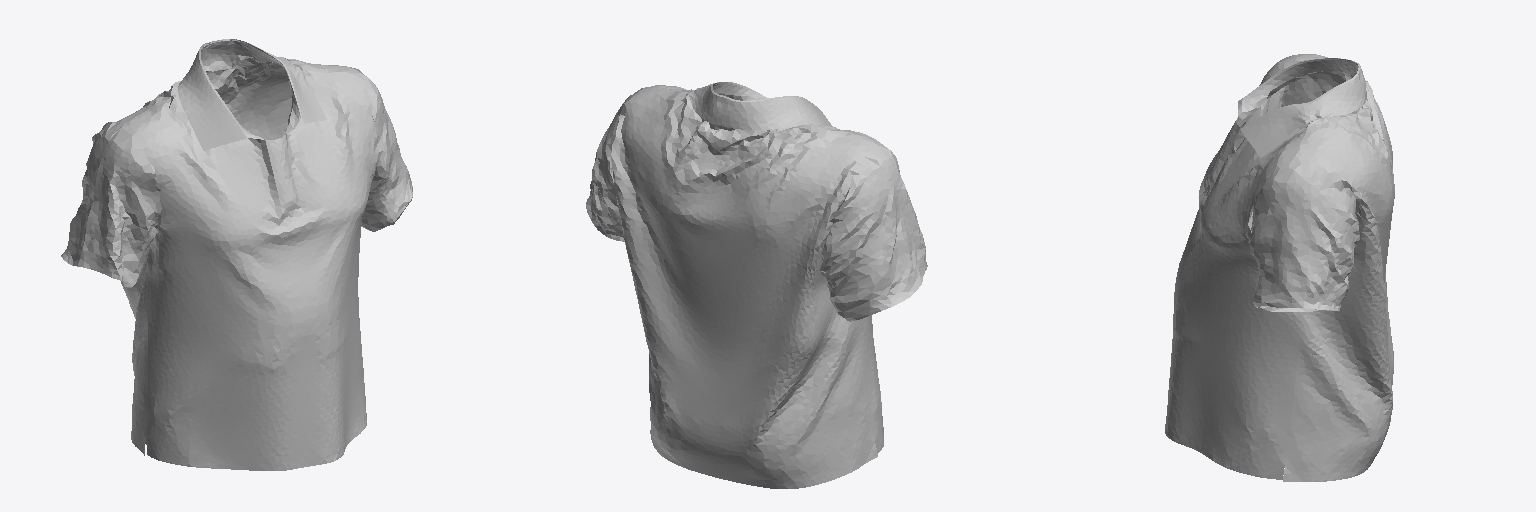
The model's file is Medium_Average.obj.
3 renders of one model, left to right at view 1: azimuth 30°, elevation 25°; view 2: azimuth 150°, elevation 25°; view 3: azimuth 270°, elevation 25°, orthographic.
Parts seen in each view (by area): view 1: polo3-30.006; view 2: polo3-30.006; view 3: polo3-30.006.
Boxes of the visible parts, <box> form: polo3-30.006: <box>61,39,412,470</box>; polo3-30.006: <box>586,82,927,488</box>; polo3-30.006: <box>1165,54,1394,481</box>.
Size of the model in its own units: 0.6235 by 0.6714 by 0.3746.